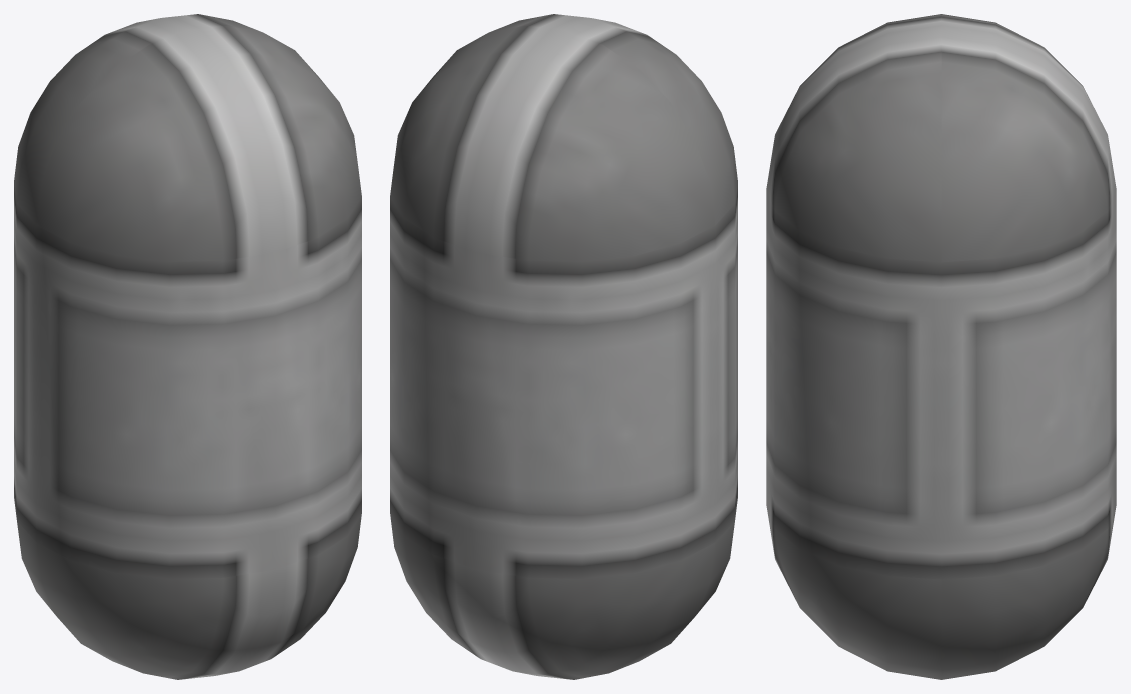
Rendered from 4mv_fuel_tank_srf_2.obj.
3 views of the same model, side by side, from view 1: azimuth 30°, elevation 25°; view 2: azimuth 150°, elevation 25°; view 3: azimuth 270°, elevation 25° (orthographic).
Parts seen in each view (by area): view 1: mesh1; view 2: mesh1; view 3: mesh1.
Boxes of the visible parts, x1,y1,x2,y2 form: mesh1: (14, 14, 361, 679); mesh1: (390, 14, 737, 679); mesh1: (766, 14, 1116, 679).
Bounding box in the file's own units: 0.125 × 0.25 × 0.125.
1 material, 1 textured.
